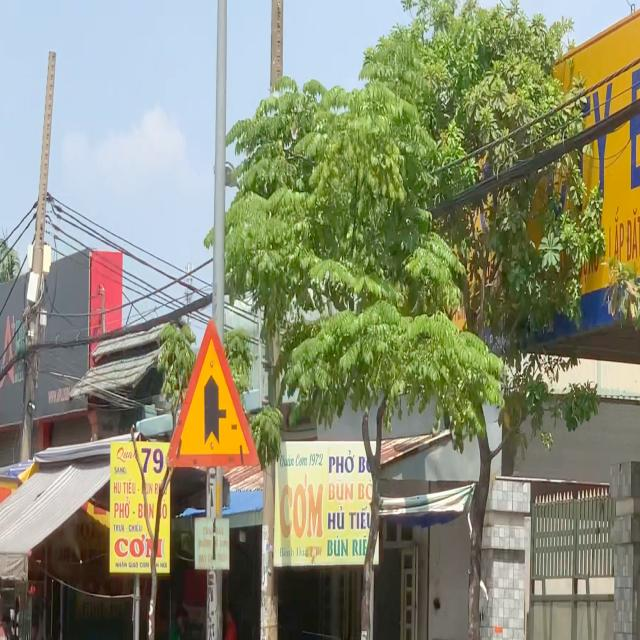Giao voi duong khong uu tien: (166, 315, 259, 468)
